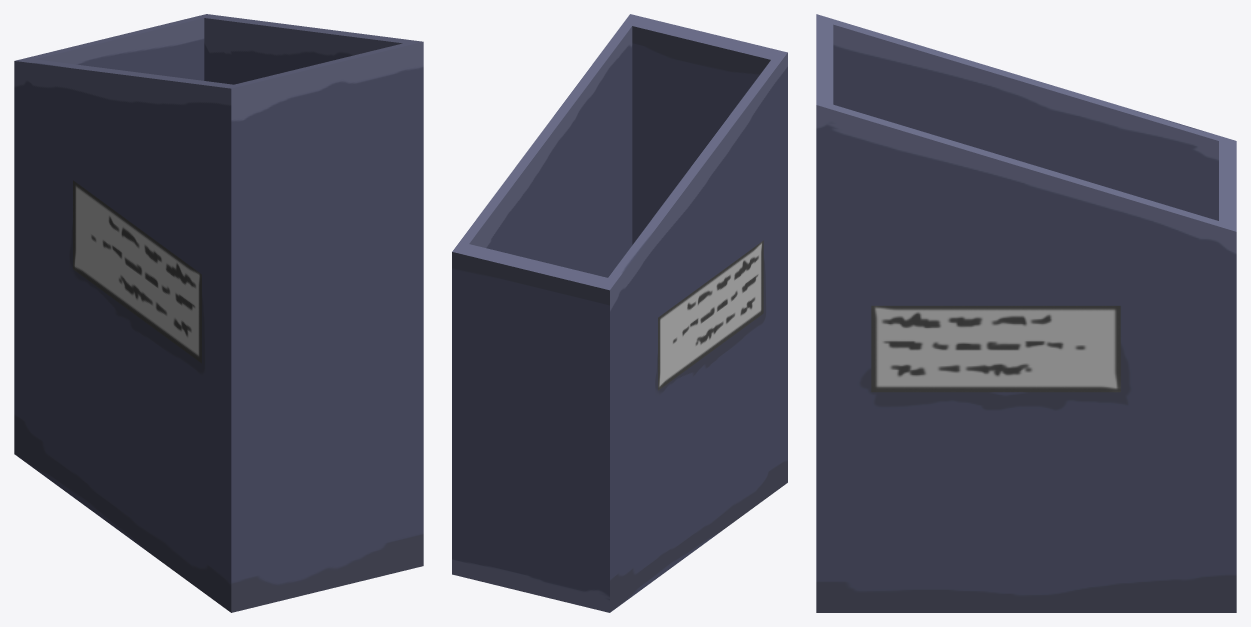
The model's file is fileContainer.fbx.
3 renders of one model, left to right at view 1: azimuth 30°, elevation 25°; view 2: azimuth 150°, elevation 25°; view 3: azimuth 270°, elevation 25°, orthographic. The views are drawn at different scales.
Visible parts, largest first — view 1: fileBox; view 2: fileBox; view 3: fileBox.
Boxes of the visible parts, box(x1,y1,x2,y2) form: fileBox: box(14, 14, 423, 612); fileBox: box(452, 14, 787, 612); fileBox: box(816, 14, 1236, 612).
Bounding box in the file's own units: 1.53 × 4 × 3.
